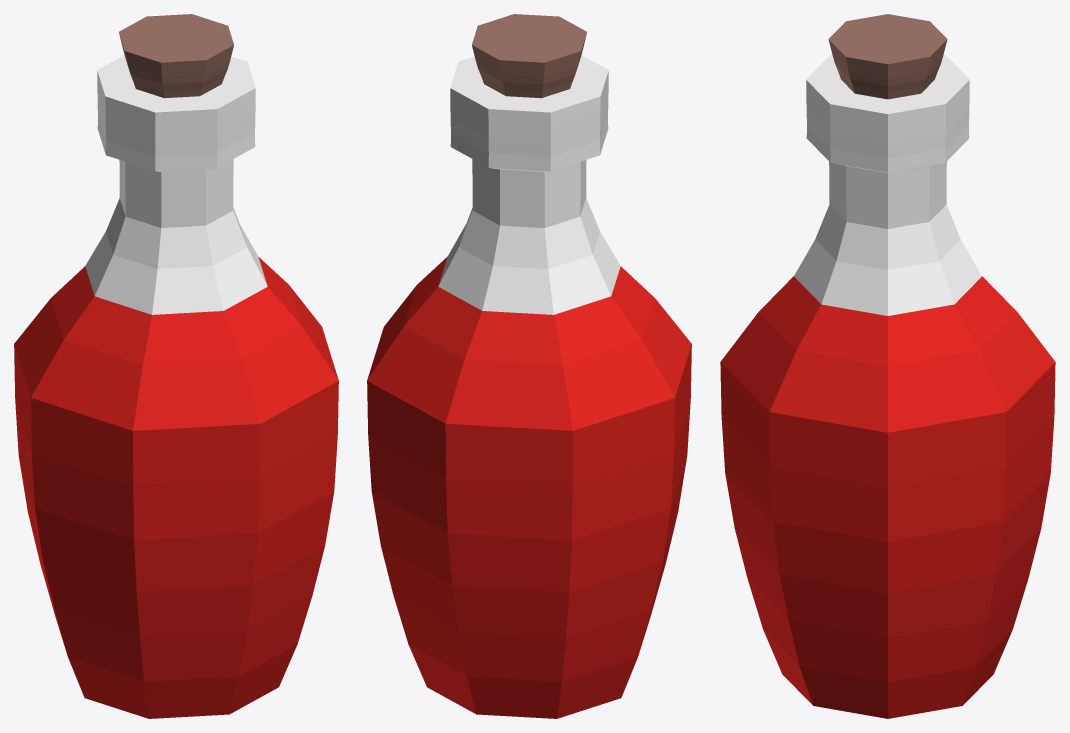
Rendered from medium_potion_red.fbx.
3 views of the same model, side by side, from view 1: azimuth 30°, elevation 25°; view 2: azimuth 150°, elevation 25°; view 3: azimuth 270°, elevation 25° (orthographic).
Parts seen in each view (by area): view 1: redpotion2; view 2: redpotion2; view 3: redpotion2.
Boxes of the visible parts, <box> form: redpotion2: <box>14,14,338,718</box>; redpotion2: <box>367,14,691,718</box>; redpotion2: <box>720,14,1055,718</box>.
Bounding box in the file's own units: 39.35 × 82.28 × 39.35.
